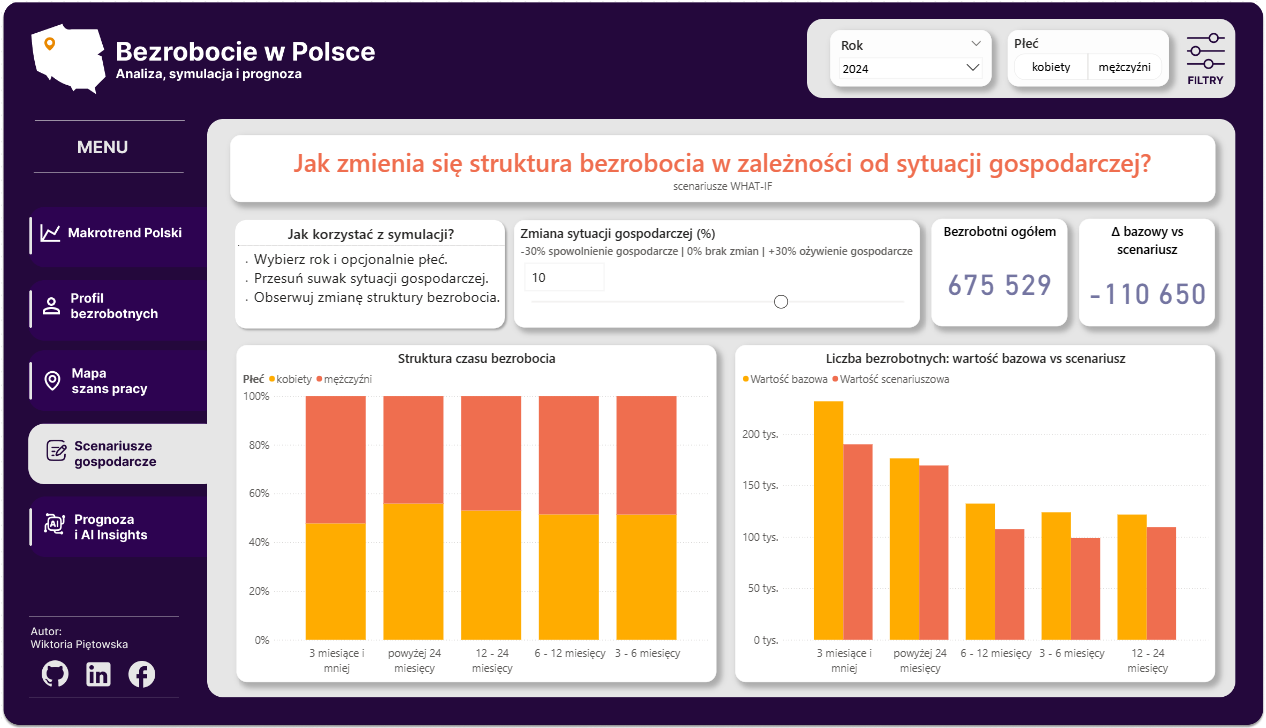

The dashboard page shown, as its layout file describes it:
{"tool":"powerbi","page":{"name":"Strona 4","canvas":[2360,1360],"ordinal":3},"visuals":[{"type":"image","box":[0,0,2360,1360],"z":0},{"type":"shape","box":[430,400,520,220],"z":0,"group":"g1"},{"type":"image","box":[0,0,2361.1,1359.6],"z":1000},{"type":"textbox","title":"Jak korzystać z symulacji?","box":[443.2,415.2,496,184.2],"z":1000,"group":"g1"},{"type":"hundredPercentStackedColumnChart","title":"Struktura czasu bezrobocia","fields":{"Category":["CzasPozostBezPracyPlec.n1"],"Series":["CzasPozostBezPracyPlec.n2"],"Y":["#Miary.S44_Bezrobotni_scenariusz"]},"box":[442.5,642.5,892.5,627.5],"z":2000},{"type":"card","fields":{"Values":["#MiaryTytuly.Tytuł5"]},"box":[430,250,1832.5,125],"z":3000},{"type":"slicer","fields":{"Values":["CzasPozostBezPracyPlec.Rok"]},"box":[1545.7,55,300,105],"z":4000},{"type":"advancedSlicerVisual","fields":{"Values":["CzasPozostBezPracyPlec.n2"]},"box":[1875.7,55,300,105],"z":5000},{"type":"slicer","title":"Zmiana sytuacji gospodarczej (%)","fields":{"Values":["Zmiana sytuacji gospodarczej (%).Zmiana sytuacji gospodarczej (%)"]},"box":[957.5,410,755,200],"z":6000},{"type":"group","id":"g1","title":"Grupa 1","box":[430,400,520,220],"z":7000},{"type":"card","title":"Bezrobotni ogółem","fields":{"Values":["#Miary.S4_Bezrobotni_scenariusz"]},"box":[1735,407.5,252.5,200],"z":8000},{"type":"card","title":"Δ bazowy vs scenariusz","fields":{"Values":["#Miary.S4_Δ_Bezrobotni_Ogolem"]},"box":[2010,407.5,252.5,200],"z":9000},{"type":"clusteredColumnChart","title":"Liczba bezrobotnych: wartość bazowa vs scenariusz","fields":{"Category":["CzasPozostBezPracyPlec.n1"],"Y":["Sum(CzasPozostBezPracyPlec.Wartość)","#Miary.S4_Bezrobotni_scenariusz"]},"box":[1370,642.5,892.5,627.5],"z":10000},{"type":"shape","box":[72.5,1222.5,65,61.2],"z":11000},{"type":"shape","box":[155,1222.5,62.5,61.2],"z":12000},{"type":"shape","box":[2187.5,42.5,105,130],"z":13000},{"type":"shape","box":[51.4,382.9,334.3,107.1],"z":15000},{"type":"shape","box":[50,520,335,107.5],"z":16000},{"type":"shape","box":[50,655,335,107.5],"z":17000},{"type":"shape","box":[52.5,930,335,107.5],"z":18000}]}

Visuals, with their boxes in screenshot pixels (x1, y1, x2, y2), scaled from the page's 2360x1360 canvas onto the 1266x728 screenshot:
image: box=[0, 0, 1265, 727]
shape: box=[231, 214, 510, 332]
image: box=[0, 0, 1265, 727]
"Jak korzystać z symulacji?" textbox: box=[238, 222, 504, 321]
"Struktura czasu bezrobocia" hundredPercentStackedColumnChart: box=[237, 344, 716, 680]
card - #MiaryTytuly.Tytuł5: box=[231, 134, 1214, 201]
slicer - CzasPozostBezPracyPlec.Rok: box=[829, 29, 990, 86]
advancedSlicerVisual - CzasPozostBezPracyPlec.n2: box=[1006, 29, 1167, 86]
"Zmiana sytuacji gospodarczej (%)" slicer: box=[514, 219, 919, 327]
"Grupa 1" group: box=[231, 214, 510, 332]
"Bezrobotni ogółem" card: box=[931, 218, 1066, 325]
"Δ bazowy vs scenariusz" card: box=[1078, 218, 1214, 325]
"Liczba bezrobotnych: wartość bazowa vs scenariusz" clusteredColumnChart: box=[735, 344, 1214, 680]
shape: box=[39, 654, 74, 687]
shape: box=[83, 654, 117, 687]
shape: box=[1173, 23, 1230, 92]
shape: box=[28, 205, 207, 262]
shape: box=[27, 278, 207, 336]
shape: box=[27, 351, 207, 408]
shape: box=[28, 498, 208, 555]
